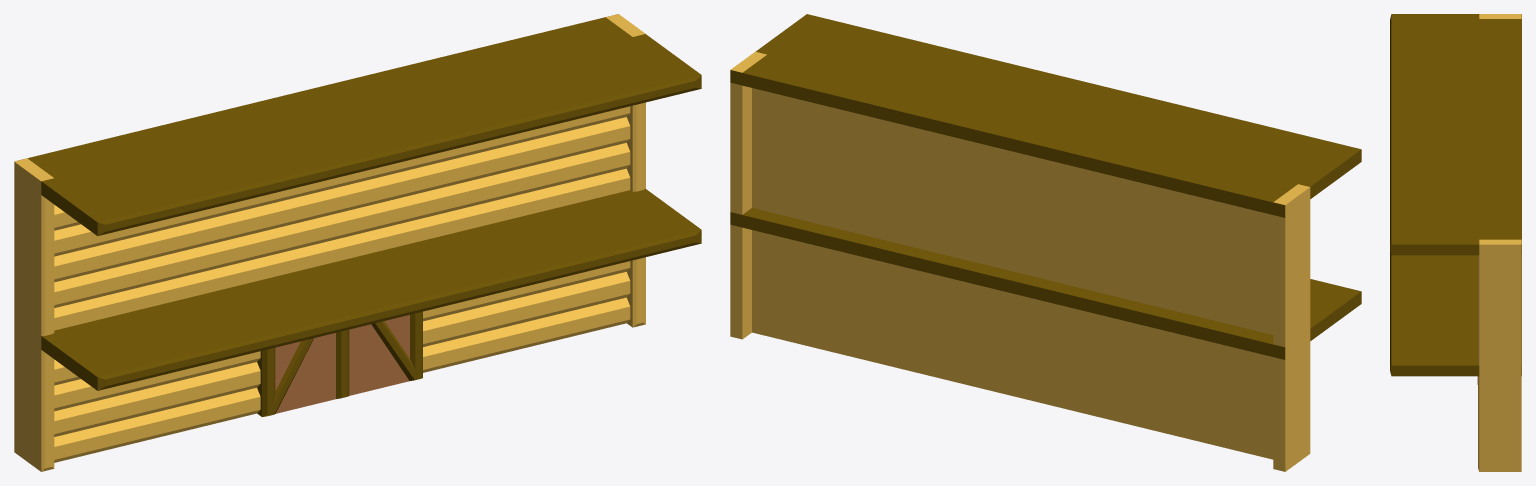
The model's file is Wide Building.fbx.
3 renders of one model, left to right at view 1: azimuth 30°, elevation 25°; view 2: azimuth 150°, elevation 25°; view 3: azimuth 270°, elevation 25°, orthographic. The views are drawn at different scales.
Visible parts, largest first — view 1: polySurface50; view 2: polySurface50; view 3: polySurface50.
Part boxes in pixels (<box>): polySurface50: <box>14,14,701,471</box>; polySurface50: <box>730,14,1361,471</box>; polySurface50: <box>1390,14,1521,471</box>.
Bounding box in the file's own units: 24.53 × 11.27 × 5.92.
